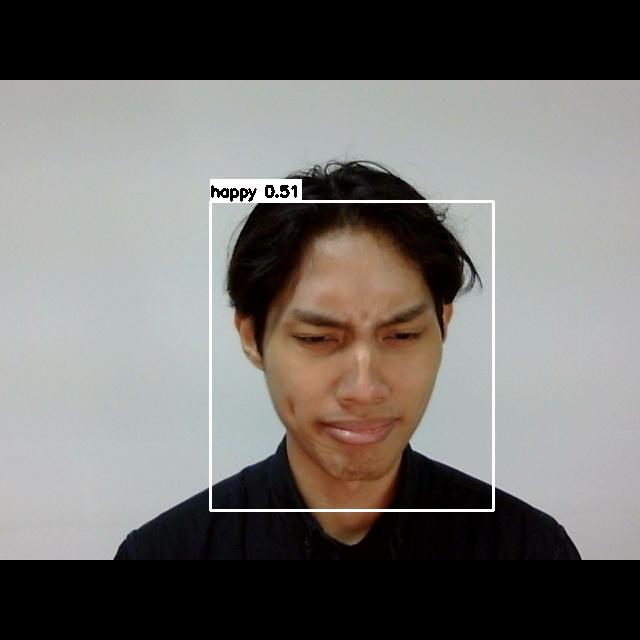Disgust: (276, 284, 441, 469)
